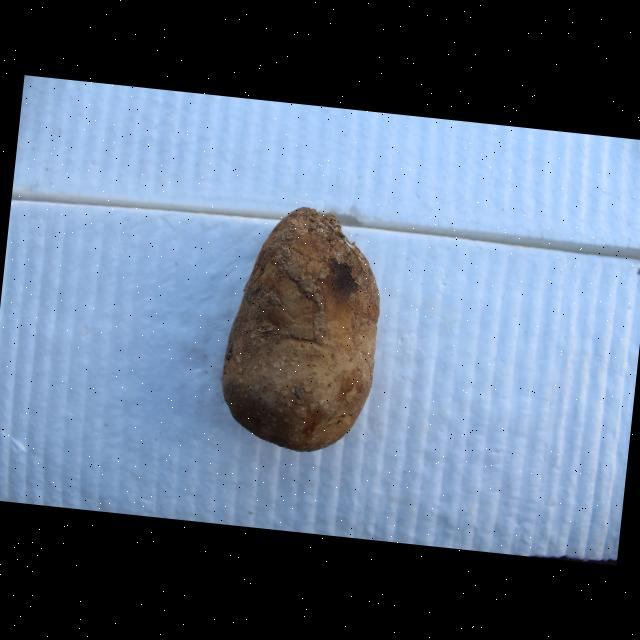Diseased-fungal potato: (213, 196, 390, 457)
